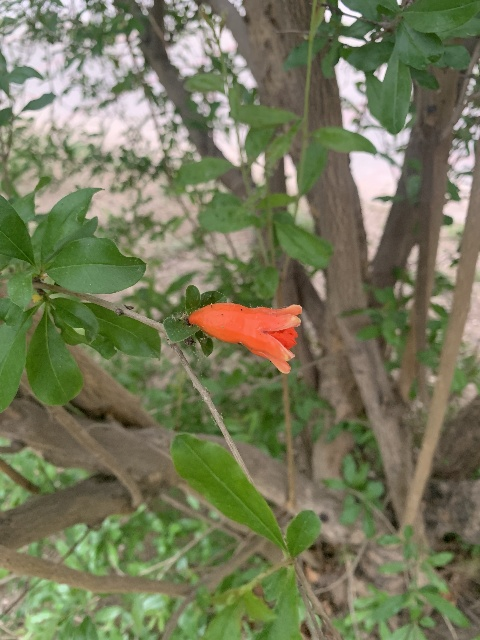flower: (189, 302, 302, 373)
